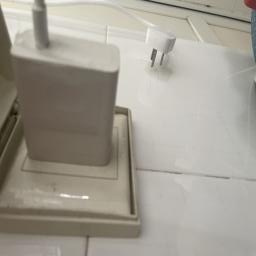outlet: (0, 99, 142, 238)
